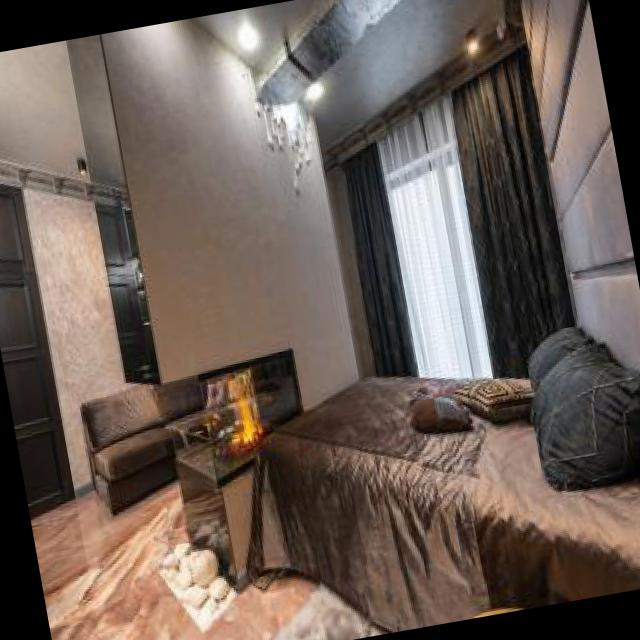Fire: (219, 386, 269, 454)
